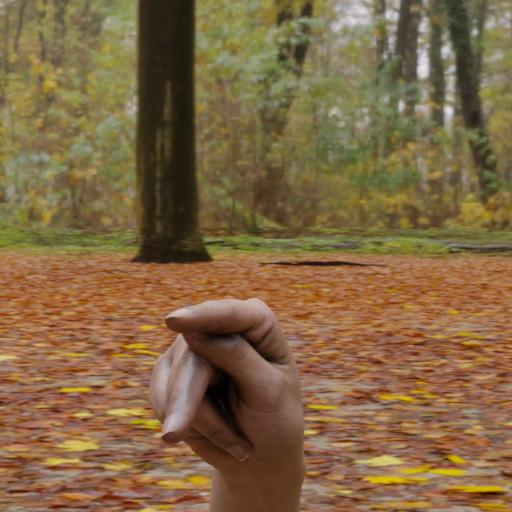P: (130, 281, 325, 490)
